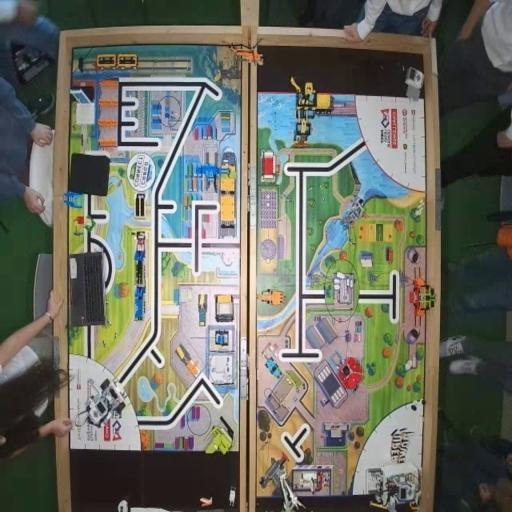lego_robot: (365, 467, 421, 511), (85, 376, 128, 430)
